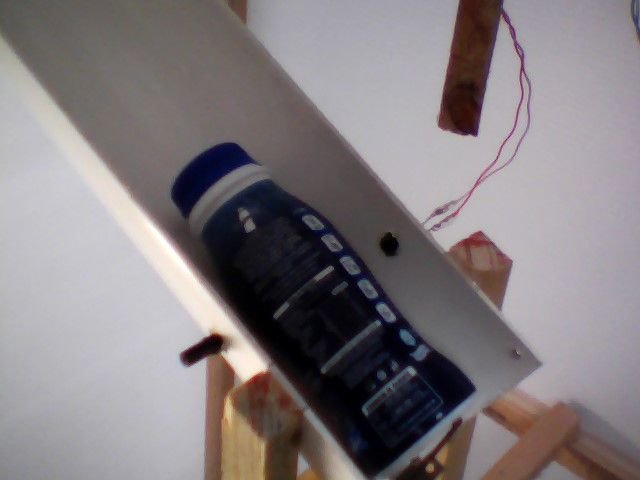plastico: (151, 136, 495, 478)
